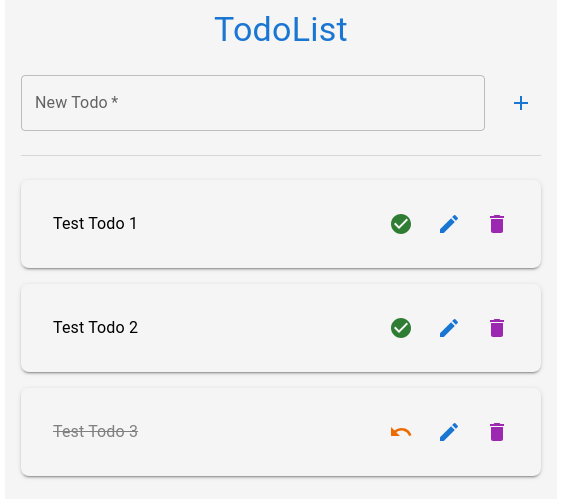
TodoPage › TODOが削除されること
Click the button named "delete todo" in the row of "Test Todo 1": (497, 224) [477,204,517,244]
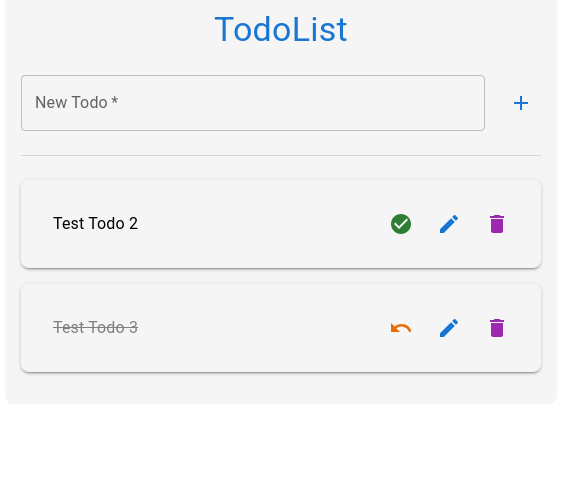
Result: the text "Test Todo 1" is gone
